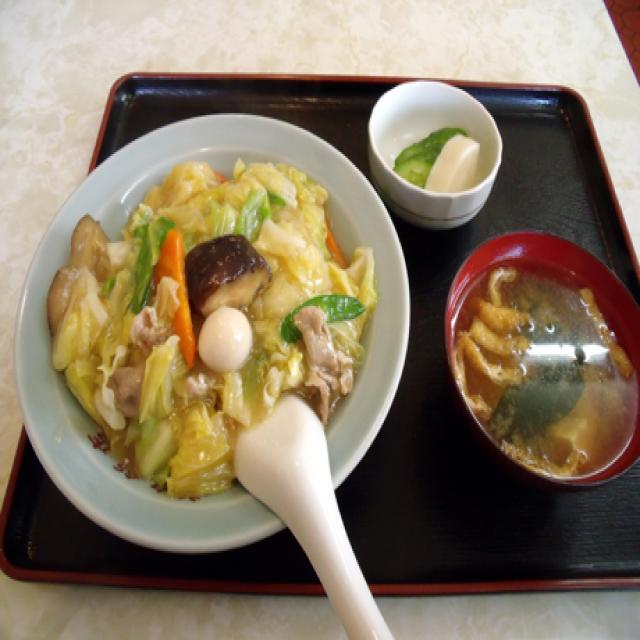汤锅炖物: (438, 250, 640, 482)
